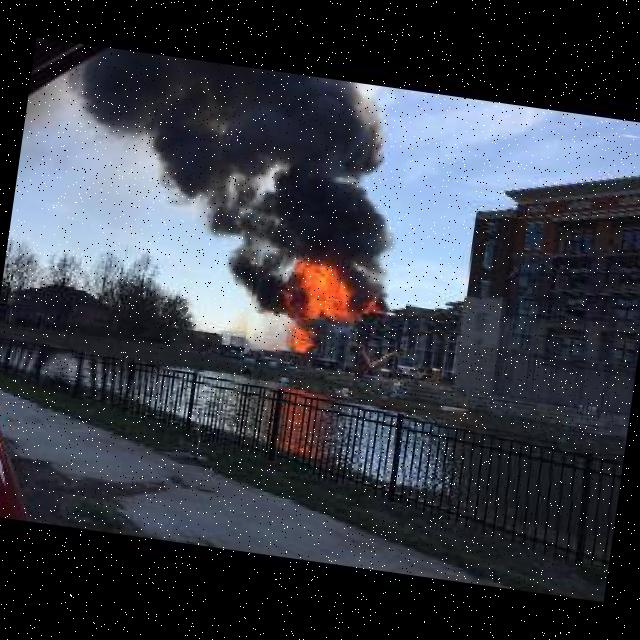fire: (243, 198, 418, 379)
